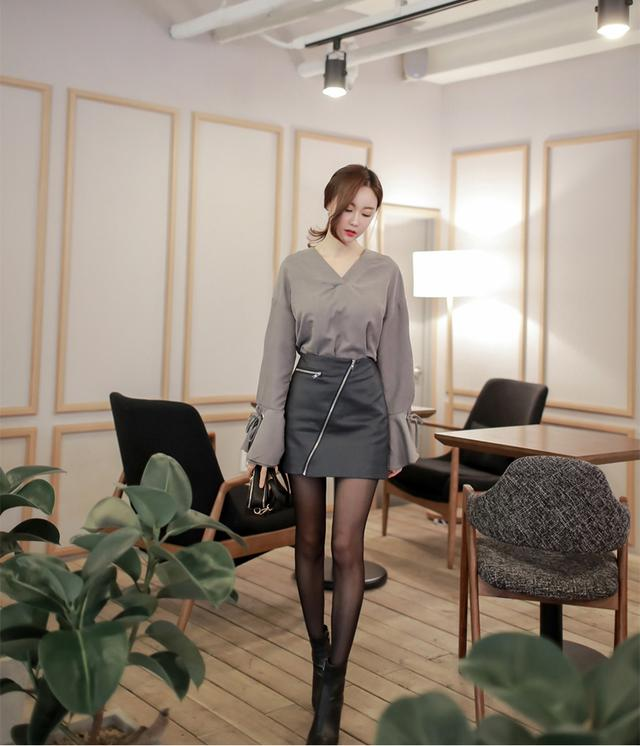person: (200, 160, 457, 592)
